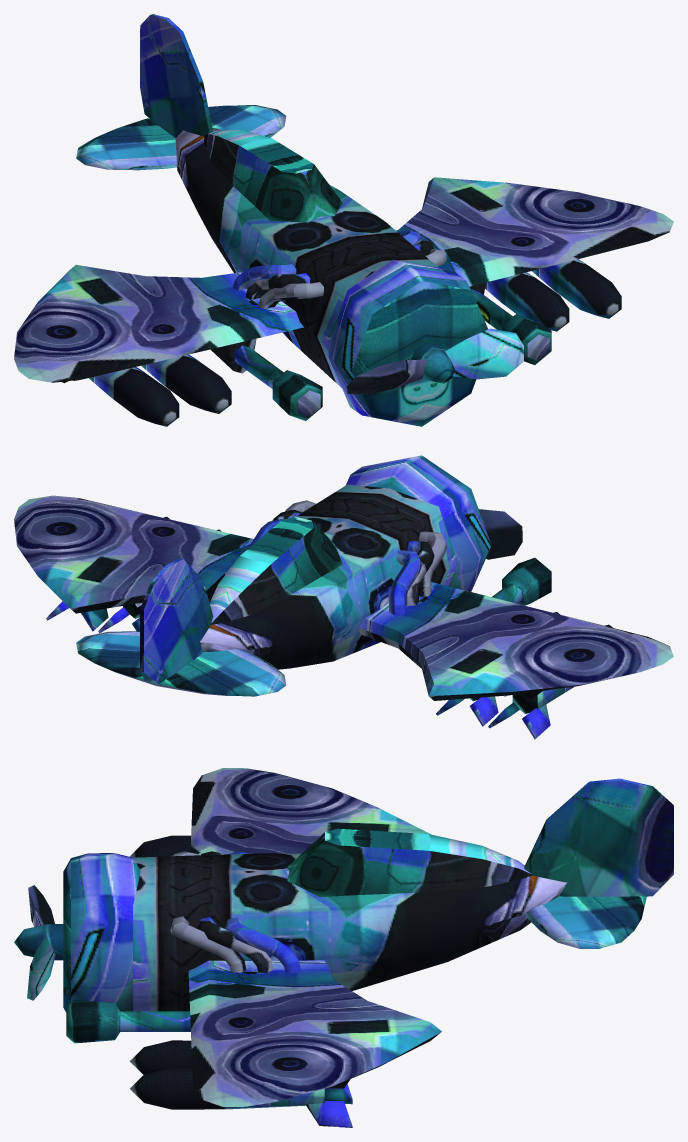
The picture shows the model from 3 angles, top to bottom: view 1: azimuth 30°, elevation 25°; view 2: azimuth 150°, elevation 25°; view 3: azimuth 270°, elevation 25°; orthographic projection. The views are drawn at different scales.
Parts seen in each view (by area): view 1: plane_05_4h00min_, plane_05_4h00min__007, plane_05_4h00min__006, plane_05_4h00min__005, plane_05_4h00min__004, plane_05_4h00min__003, plane_05_4h00min__002, plane_05_4h00min__001; view 2: plane_05_4h00min_, plane_05_4h00min__002, plane_05_4h00min__006, plane_05_4h00min__007, plane_05_4h00min__005, plane_05_4h00min__003, plane_05_4h00min__004; view 3: plane_05_4h00min_, plane_05_4h00min__004, plane_05_4h00min__001, plane_05_4h00min__007, plane_05_4h00min__003, plane_05_4h00min__006.
Boxes of the visible parts, x1,y1,x2,y2 form: plane_05_4h00min_: [14, 14, 673, 426]; plane_05_4h00min__007: [347, 328, 523, 394]; plane_05_4h00min__006: [62, 367, 179, 426]; plane_05_4h00min__005: [141, 354, 231, 413]; plane_05_4h00min__004: [532, 259, 621, 318]; plane_05_4h00min__003: [485, 272, 569, 331]; plane_05_4h00min__002: [234, 345, 322, 420]; plane_05_4h00min__001: [471, 289, 551, 364]; plane_05_4h00min_: [14, 455, 673, 700]; plane_05_4h00min__002: [491, 557, 551, 605]; plane_05_4h00min__006: [488, 624, 612, 739]; plane_05_4h00min__007: [478, 509, 522, 559]; plane_05_4h00min__005: [436, 612, 559, 726]; plane_05_4h00min__003: [98, 529, 221, 633]; plane_05_4h00min__004: [46, 516, 169, 631]; plane_05_4h00min_: [63, 768, 673, 1106]; plane_05_4h00min__004: [130, 1068, 352, 1127]; plane_05_4h00min__001: [66, 1000, 190, 1043]; plane_05_4h00min__007: [14, 885, 63, 1000]; plane_05_4h00min__003: [129, 1040, 352, 1100]; plane_05_4h00min__006: [130, 835, 191, 857].
Bounding box in the file's own units: 192 × 64.43 × 158.
